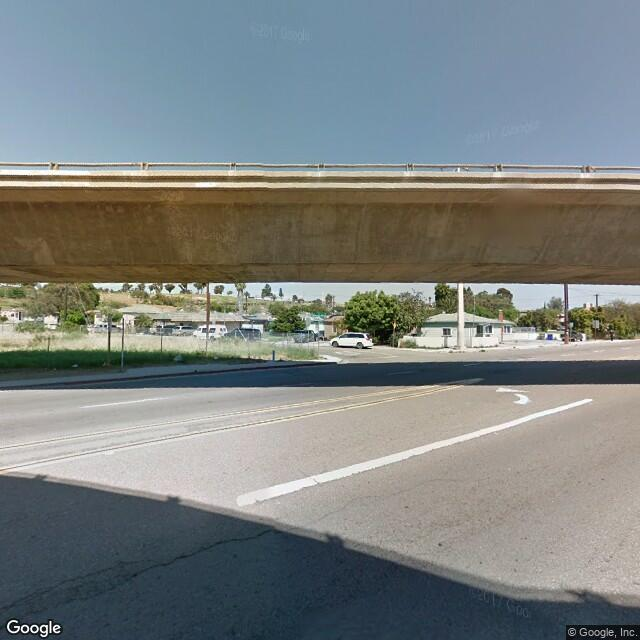litter: (70, 362, 88, 376)
